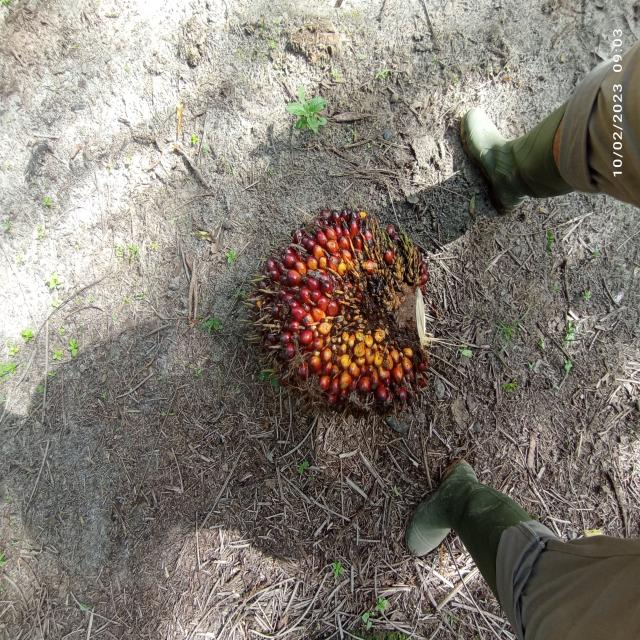fraksi 3: (249, 170, 456, 423)
